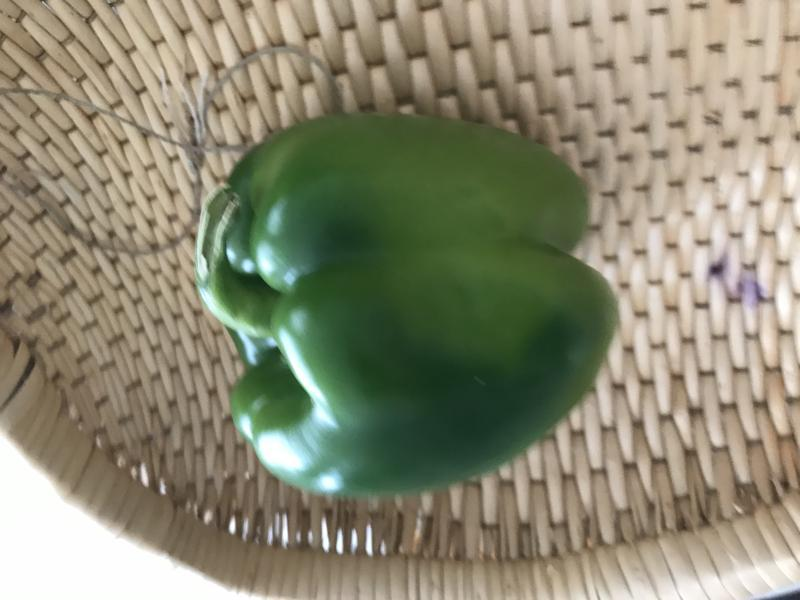green_pepper: (179, 102, 631, 511)
